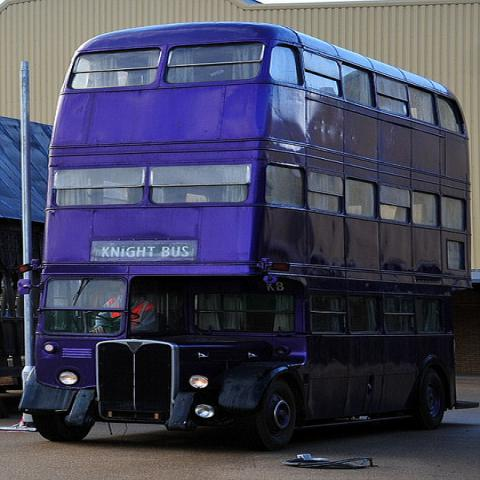bus: (31, 22, 469, 455)
